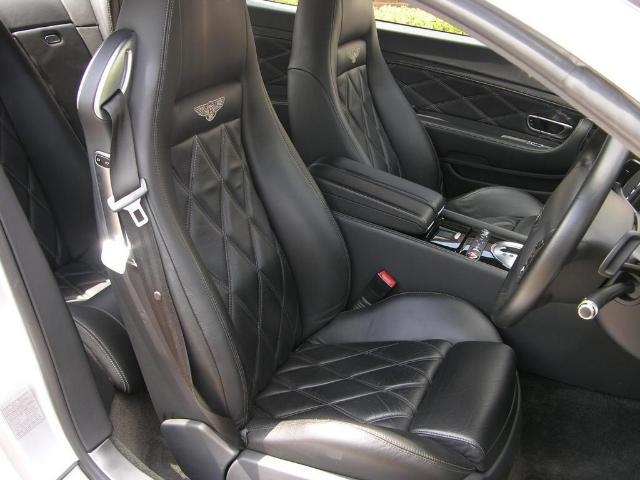Seatbelt: (101, 87, 246, 447)
